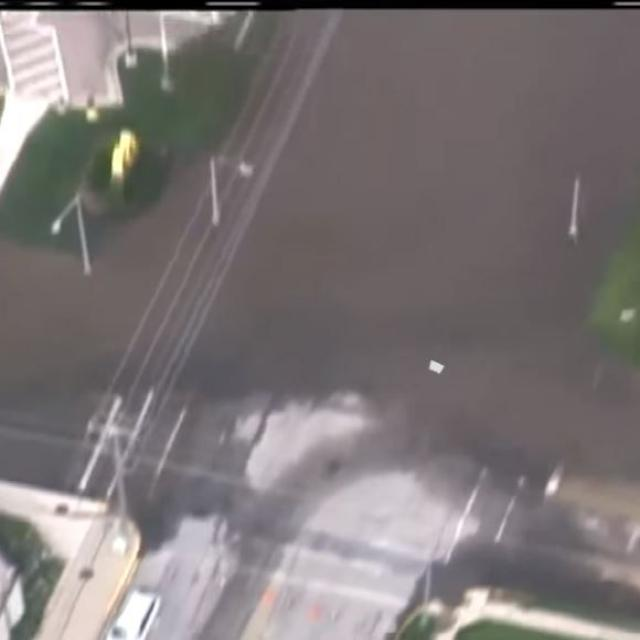flooded_areas: (8, 0, 639, 414)
